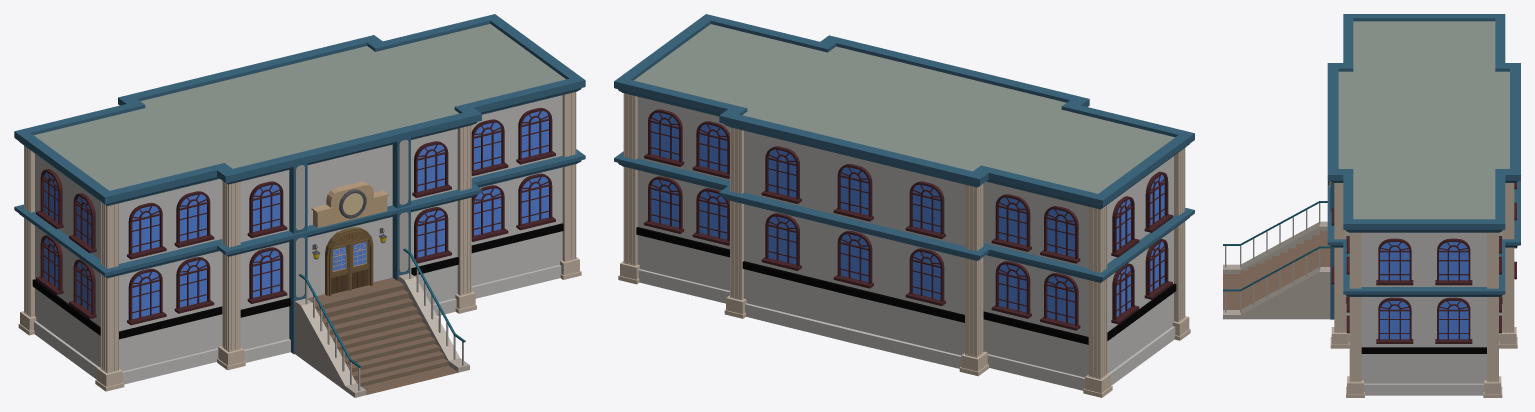
File: School.gltf
3 renders of one model, left to right at view 1: azimuth 30°, elevation 25°; view 2: azimuth 150°, elevation 25°; view 3: azimuth 270°, elevation 25°, orthographic. The views are drawn at different scales.
Visible parts, largest first — view 1: School; view 2: School; view 3: School.
Boxes of the visible parts, <box> form: School: <box>14,14,585,397</box>; School: <box>614,14,1194,397</box>; School: <box>1223,14,1520,397</box>.
Size of the model in its own units: 20.89 by 8.14 by 12.53.
